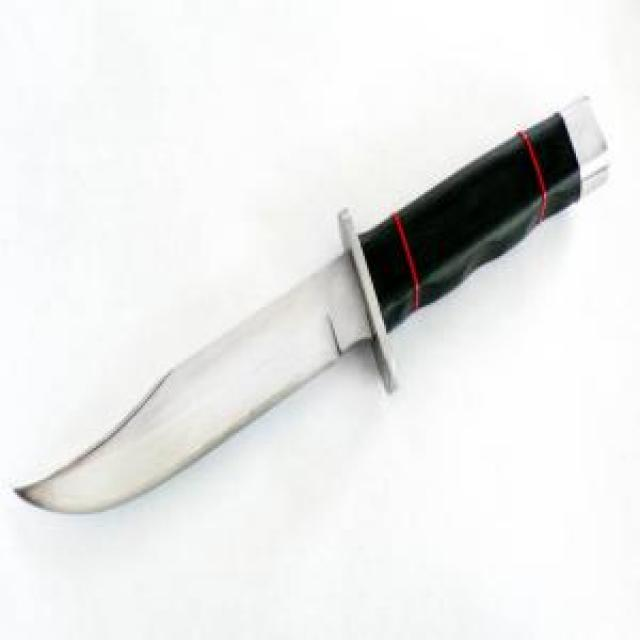knife: (13, 88, 612, 530)
